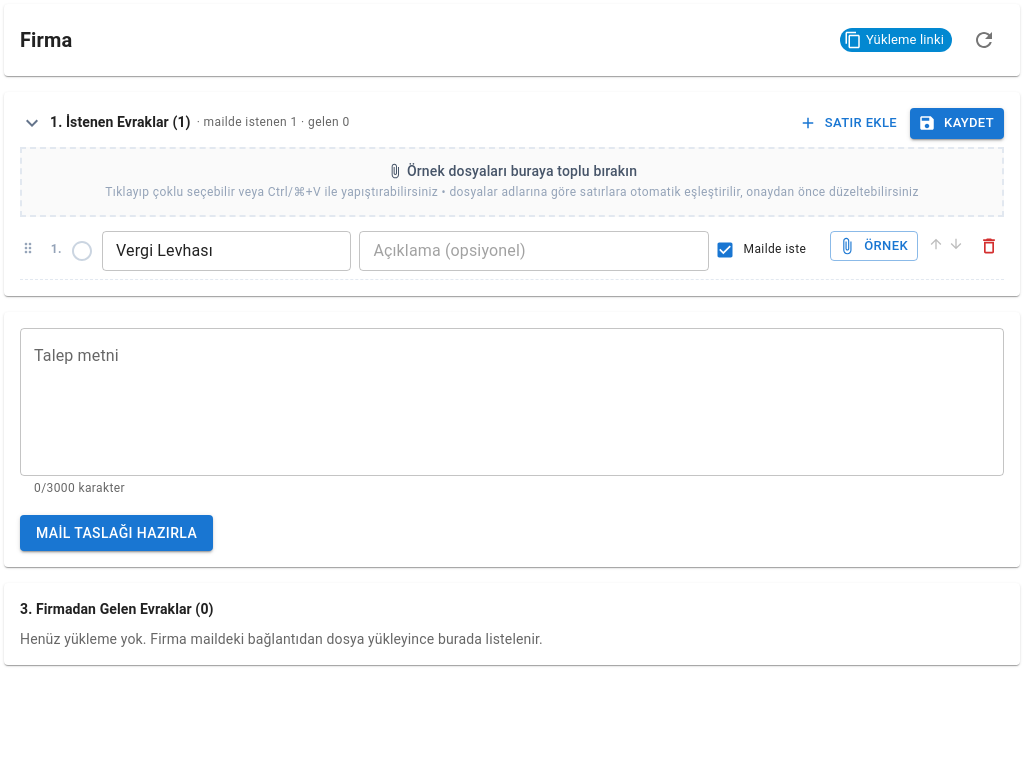
Test: gönderim belirsizse aynı taslak kimliğiyle sonucu sorgular, SMTP reddi ve geçmiş uyarısı birlikte görünür
Click the button "Mail Taslağı Hazırla": (117, 533) [20, 515, 213, 551]
(page scrolled)
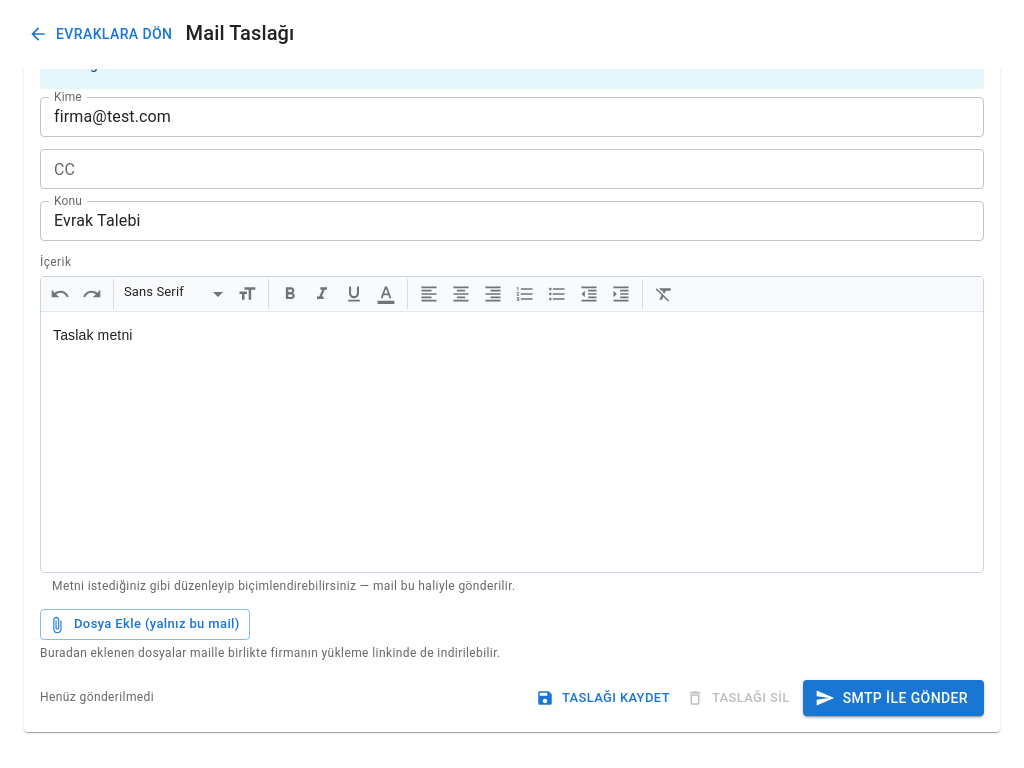
Click the button "SMTP ile Gönder": (893, 698) [803, 680, 984, 716]
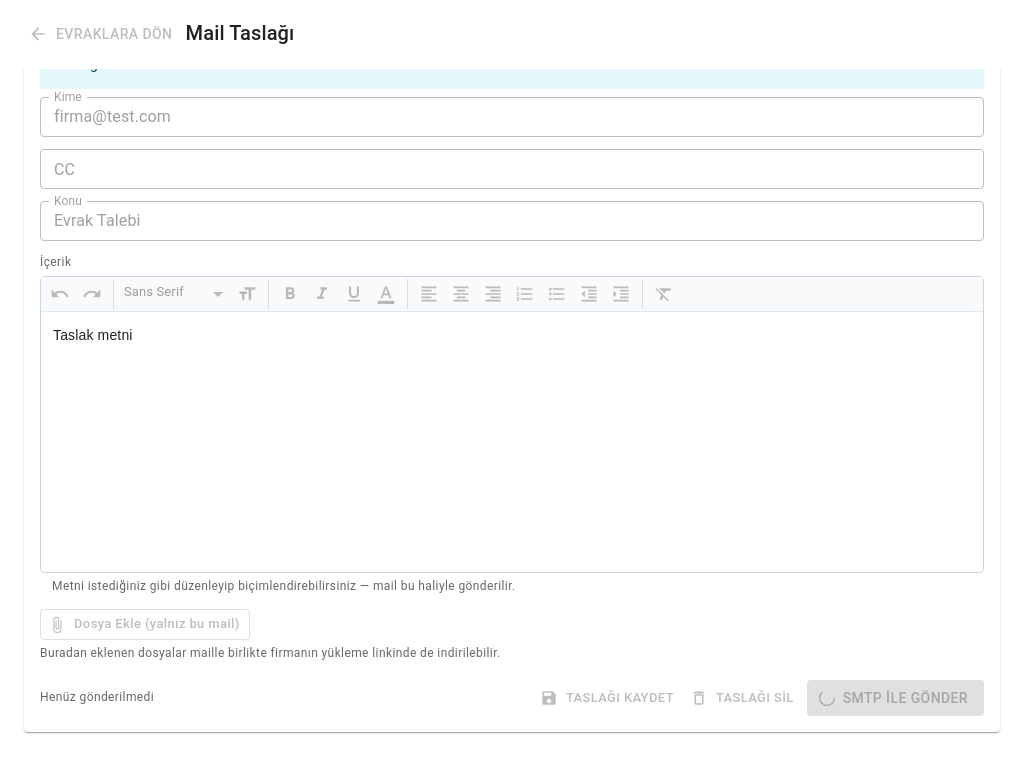
expect the button "SMTP ile Gönder" is disabled: met
expect the button "Taslağı Kaydet" is disabled: met, box [537, 680, 679, 716]
Click the button "SMTP ile Gönder": (895, 698) [807, 680, 984, 716]
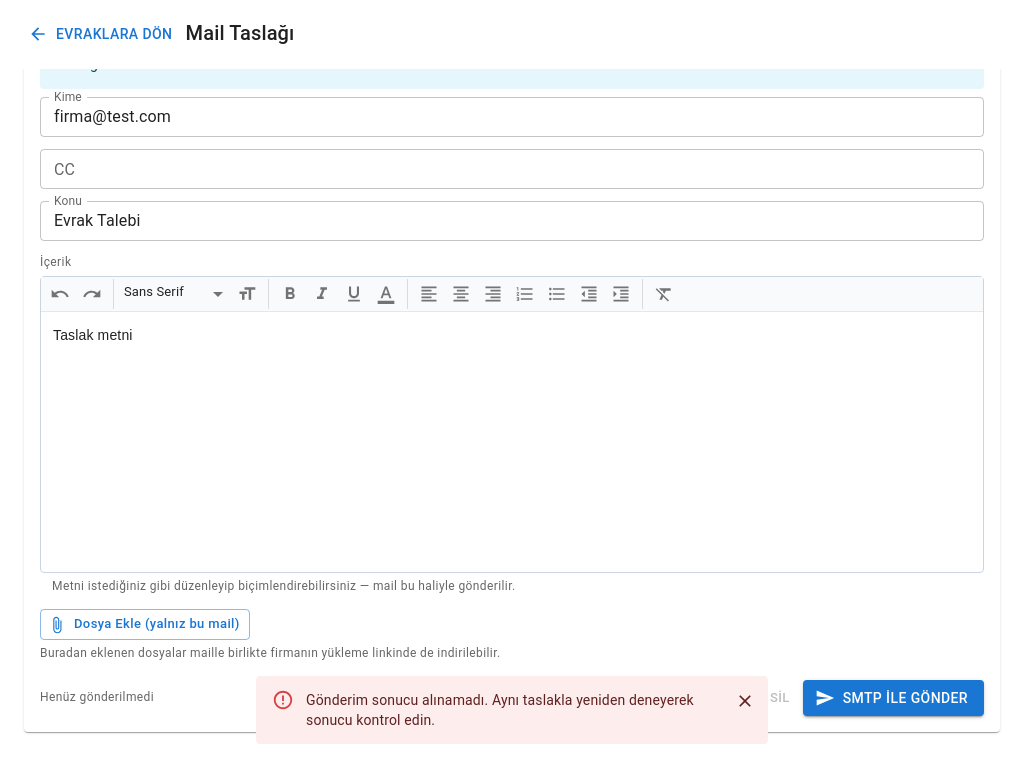
expect the text "Gönderim sonucu alınamadı" is shown: met, box [306, 692, 694, 728]
Click the button "SMTP ile Gönder": (893, 698) [803, 680, 984, 716]
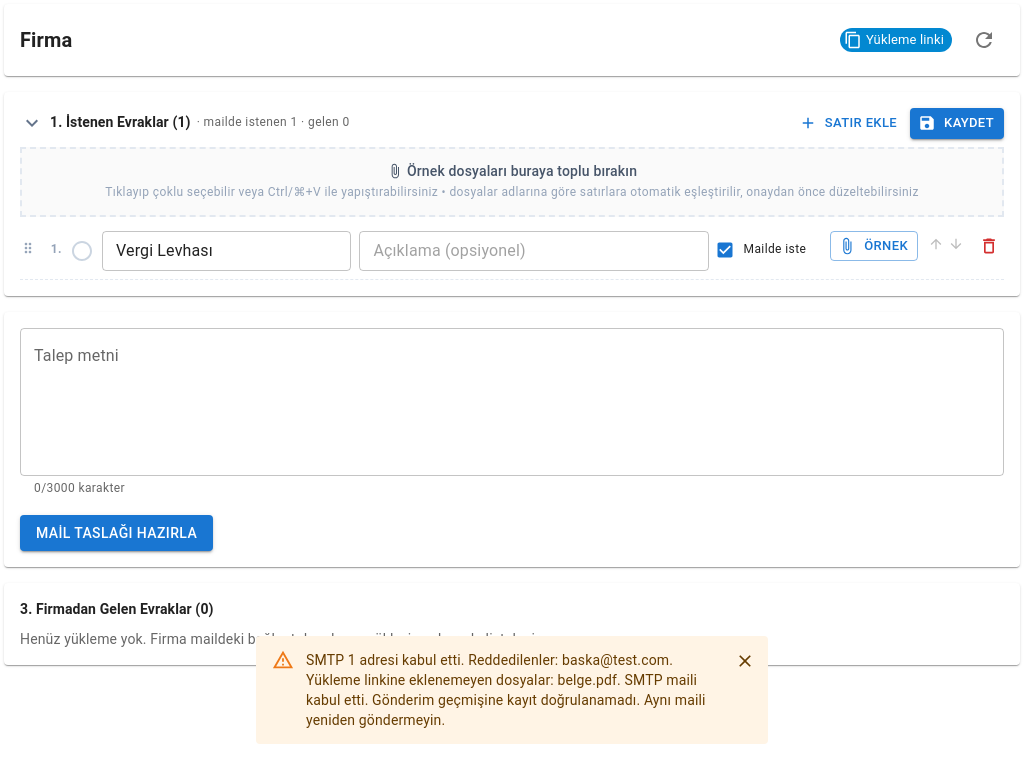
expect the text "Reddedilenler: baska@test.com" shows "belge.pdf": met, box [306, 652, 706, 728]
